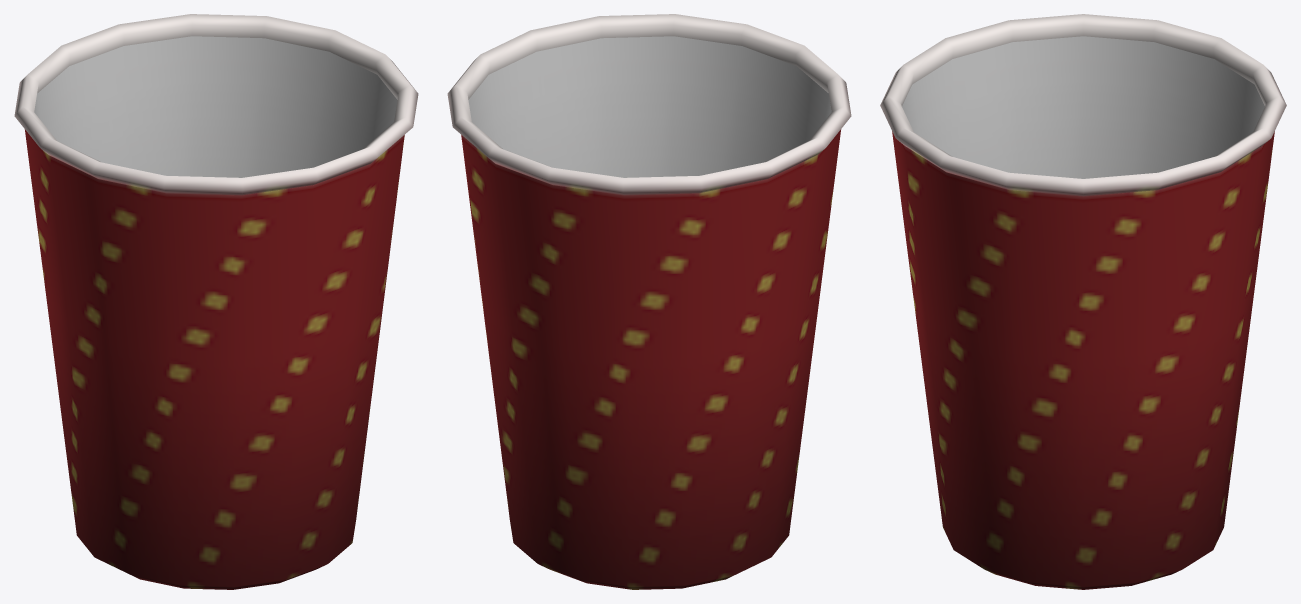
File: 011-Parfait_09.FBX
3 renders of one model, left to right at view 1: azimuth 30°, elevation 25°; view 2: azimuth 150°, elevation 25°; view 3: azimuth 270°, elevation 25°, orthographic.
Visible parts, largest first — view 1: 011-Parfait_09; view 2: 011-Parfait_09; view 3: 011-Parfait_09.
Boxes of the visible parts, box(x1,y1,x2,y2) form: 011-Parfait_09: box(14, 14, 418, 589); 011-Parfait_09: box(447, 14, 851, 589); 011-Parfait_09: box(880, 14, 1286, 589).
Bounding box in the file's own units: 14.13 × 16.88 × 14.13.
